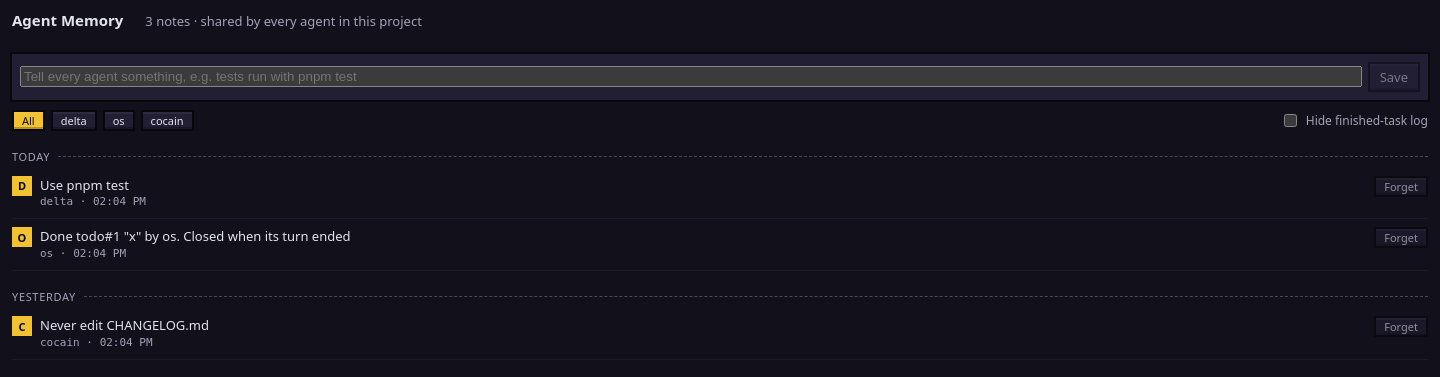
the Agent Memory page › can hide the finished-task log lines
Click the checkbox labelled "Hide finished-task log".
click(1290, 120)  # box [1284, 114, 1297, 126]
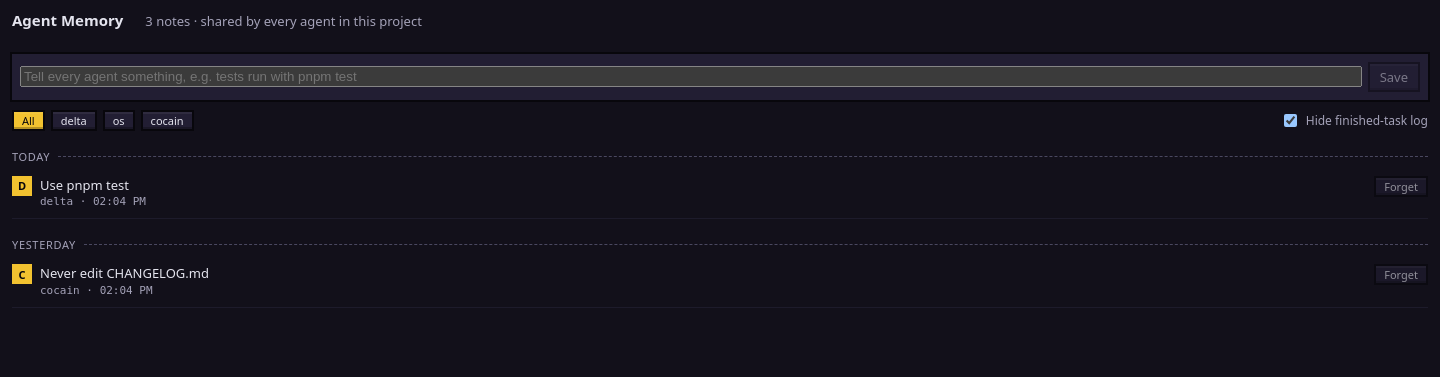
Expected: the text "Use pnpm test" is shown, [40, 176, 129, 194]
Expected: the text "Done todo#1" is gone
